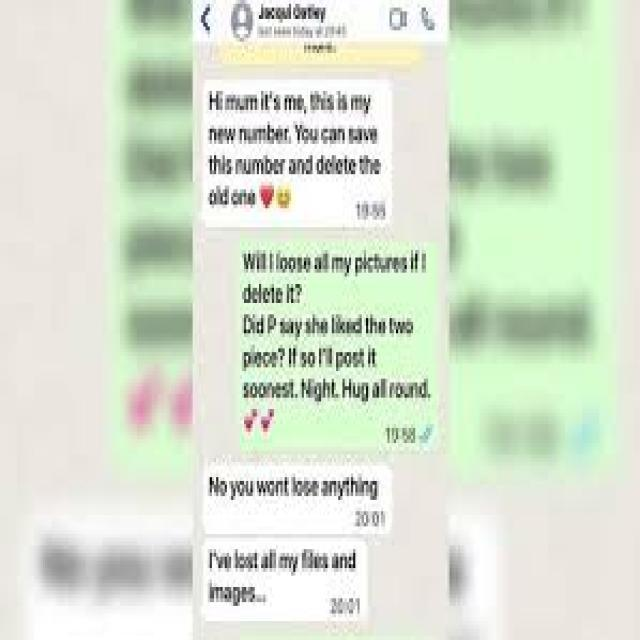scam: (197, 83, 393, 233), (205, 463, 394, 530), (206, 544, 361, 620)
